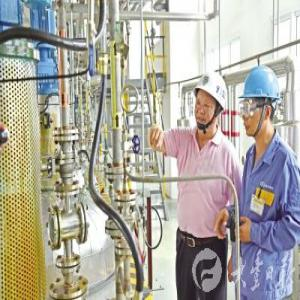blue: (241, 65, 282, 140)
white: (192, 73, 231, 133)
